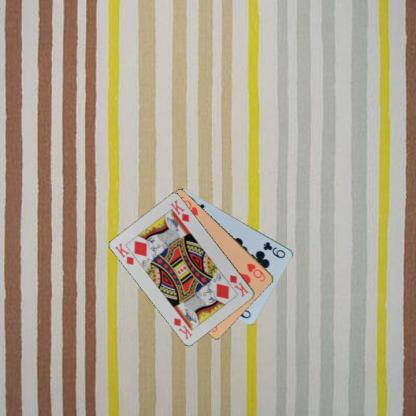6h: (244, 261, 267, 283)
9c: (260, 240, 286, 260)
Kd: (227, 272, 250, 298), (112, 240, 135, 266)
